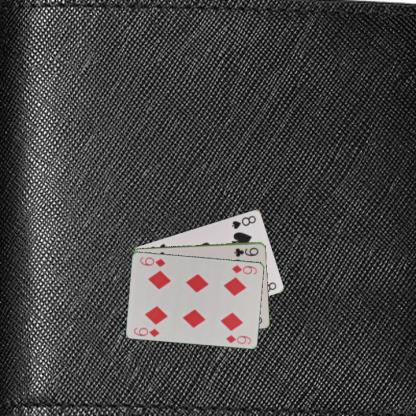6d: (230, 262, 258, 276), (131, 325, 161, 338)
8s: (229, 213, 257, 230)
9c: (232, 245, 260, 258)
